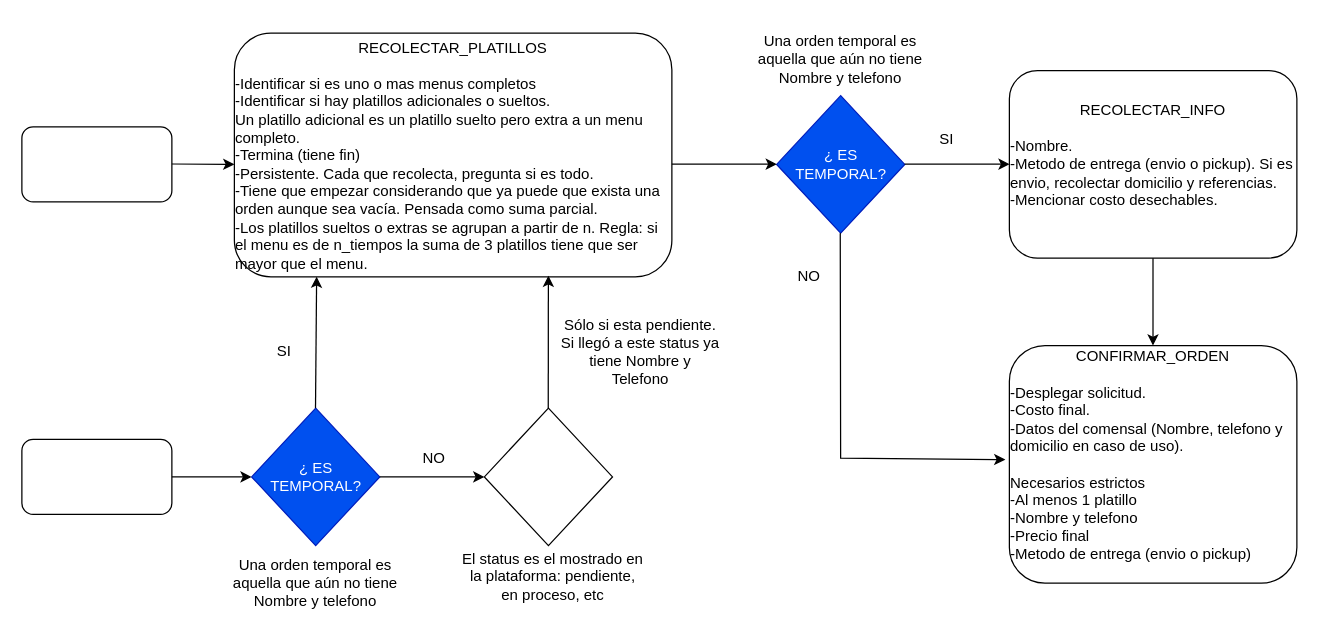
This 1319x640 diagram has some shape labels left out. Each missing label, with the centre of its shape:
CREAR_ORDEN: (x=96, y=164)
EDITAR_ORDEN: (x=96, y=476)
Verificar Status Orden: (x=547, y=476)
